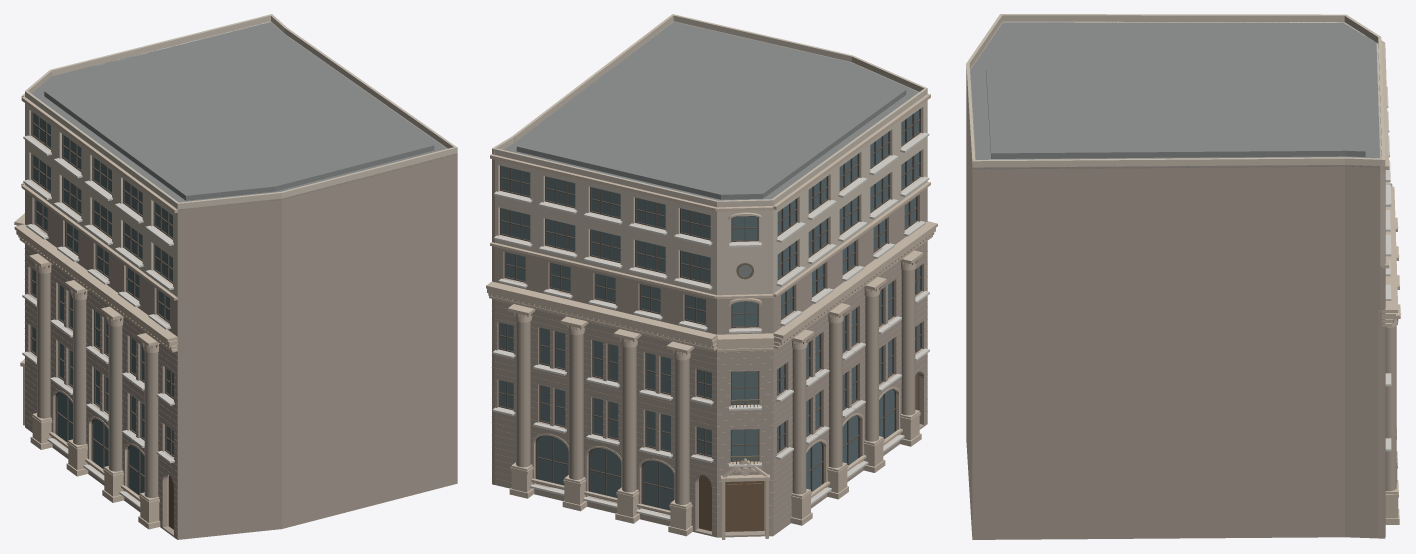
The model's file is huangpu-deutsch-asiatische-bank-raw.glb.
The picture shows the model from 3 angles, left to right: view 1: azimuth 30°, elevation 25°; view 2: azimuth 150°, elevation 25°; view 3: azimuth 270°, elevation 25°; orthographic projection. The views are drawn at different scales.
Visible parts, largest first — view 1: 江川大楼（德华银行九江路营业楼）; view 2: 江川大楼（德华银行九江路营业楼）; view 3: 江川大楼（德华银行九江路营业楼）.
Part boxes in pixels (bbox=[...]): 江川大楼（德华银行九江路营业楼）: bbox=[14, 14, 457, 539]; 江川大楼（德华银行九江路营业楼）: bbox=[486, 14, 937, 539]; 江川大楼（德华银行九江路营业楼）: bbox=[966, 14, 1400, 539].
Bounding box in the file's own units: 22.89 × 26.25 × 27.27.
